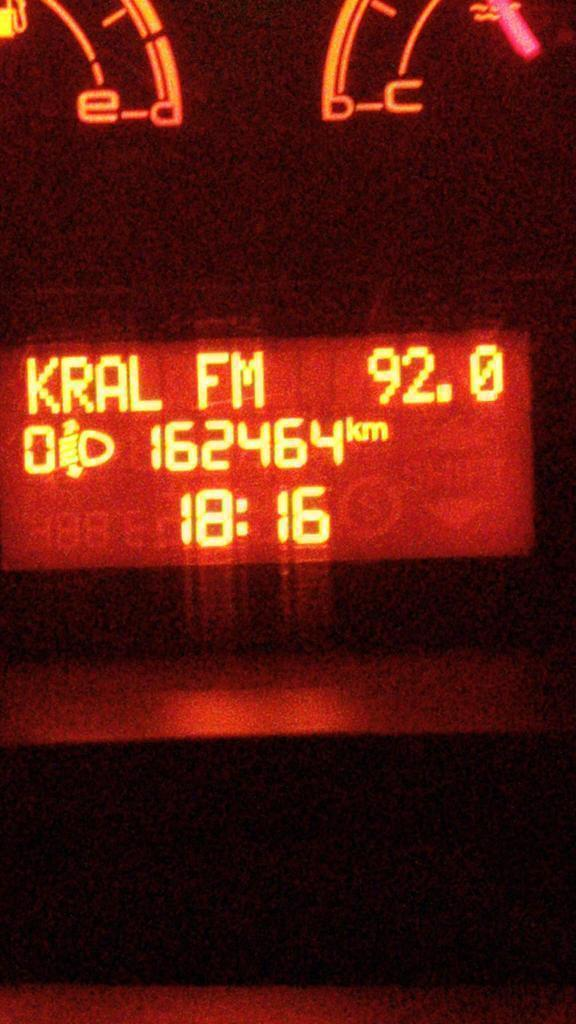,: (434, 383, 453, 403)
0: (468, 343, 505, 402), (22, 424, 55, 474)
1: (275, 488, 290, 544), (179, 492, 193, 546), (149, 423, 163, 470)
2: (401, 345, 435, 405), (200, 419, 234, 470)
4: (309, 418, 345, 466), (236, 420, 271, 468)
6: (290, 485, 332, 546), (272, 416, 308, 468), (163, 420, 198, 472)
8: (194, 487, 234, 547)
9: (366, 346, 400, 405)
X: (229, 351, 266, 409), (94, 354, 129, 413), (129, 354, 164, 413), (195, 350, 228, 411), (26, 356, 60, 415), (61, 355, 94, 413), (234, 496, 250, 538), (362, 420, 388, 442), (345, 415, 363, 442)
odometer: (0, 325, 538, 577)
